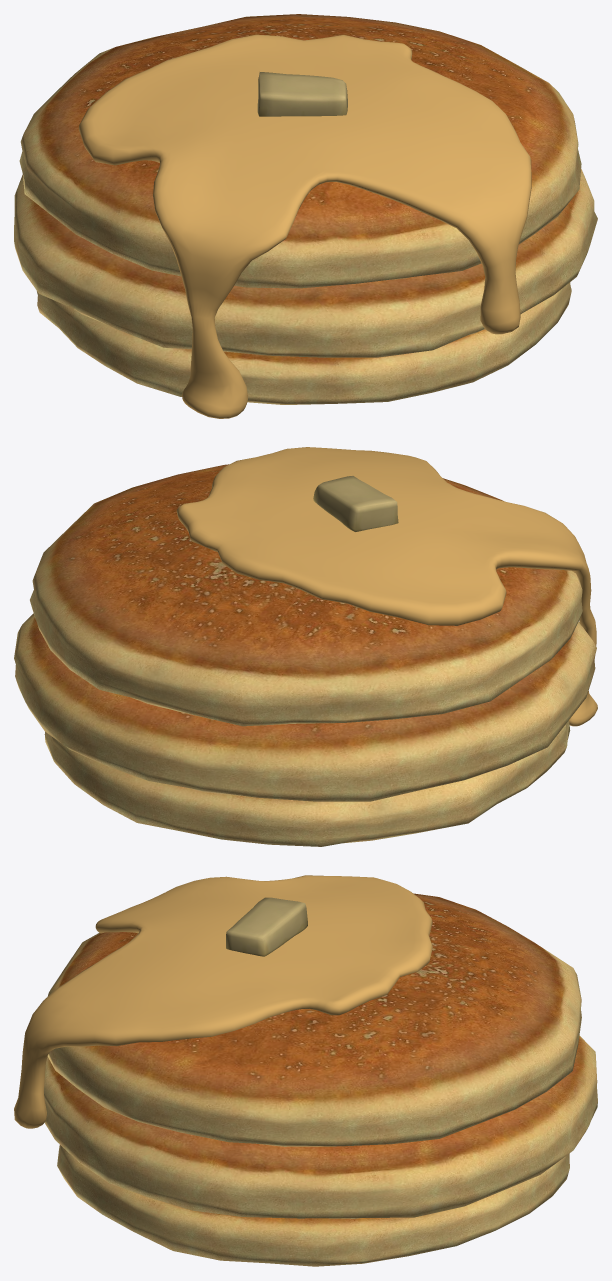
Rendered from pancake-1k.glb.
The picture shows the model from 3 angles, top to bottom: view 1: azimuth 30°, elevation 25°; view 2: azimuth 150°, elevation 25°; view 3: azimuth 270°, elevation 25°; orthographic projection. The views are drawn at different scales.
Parts seen in each view (by area): view 1: Group8824, Pancake_low.003, Pancake_low.002, Pancake_low.001, Butter_low.001; view 2: Pancake_low.003, Group8824, Pancake_low.002, Pancake_low.001, Butter_low.001; view 3: Pancake_low.003, Group8824, Pancake_low.002, Pancake_low.001, Butter_low.001.
Part boxes in pixels (x1,y1,x2,y2): Group8824: (78,34,531,418); Pancake_low.003: (19,14,581,288); Pancake_low.002: (14,169,597,357); Pancake_low.001: (37,282,571,404); Butter_low.001: (257,72,347,116); Pancake_low.003: (30,464,582,726); Group8824: (176,447,597,726); Pancake_low.002: (14,613,596,801); Pancake_low.001: (44,720,570,846); Butter_low.001: (313,476,398,531); Pancake_low.003: (47,893,581,1146); Group8824: (14,875,432,1128); Pancake_low.002: (44,1035,597,1218); Pancake_low.001: (57,1144,569,1266); Butter_low.001: (226,897,307,956).
Bounding box in the file's own units: 137 × 64.38 × 142.
2 materials, 1 textured.
